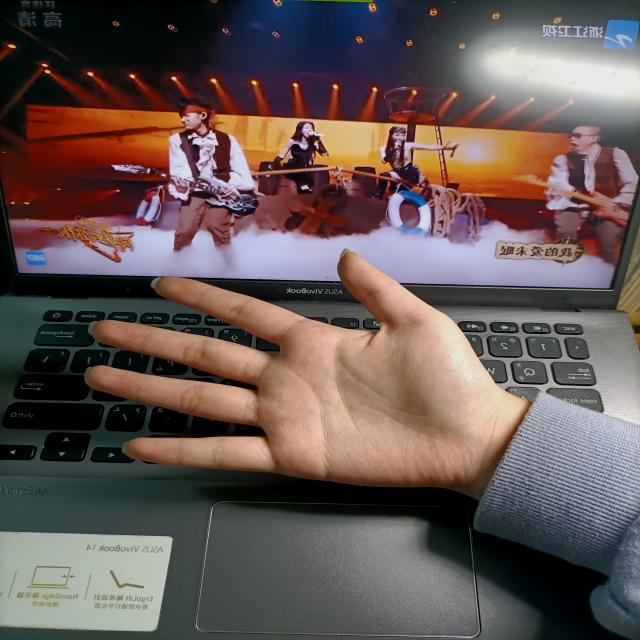no_glove: (65, 229, 541, 512)
